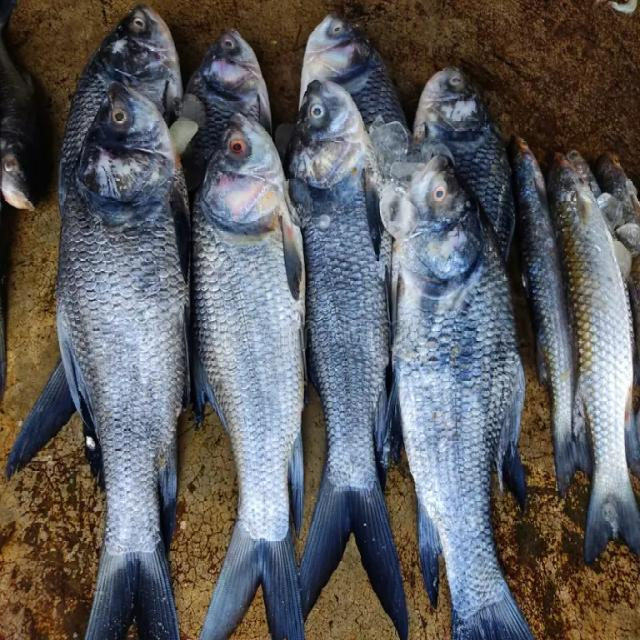Catla: (56, 84, 193, 639), (393, 160, 535, 639), (294, 82, 408, 636), (192, 108, 308, 639)
